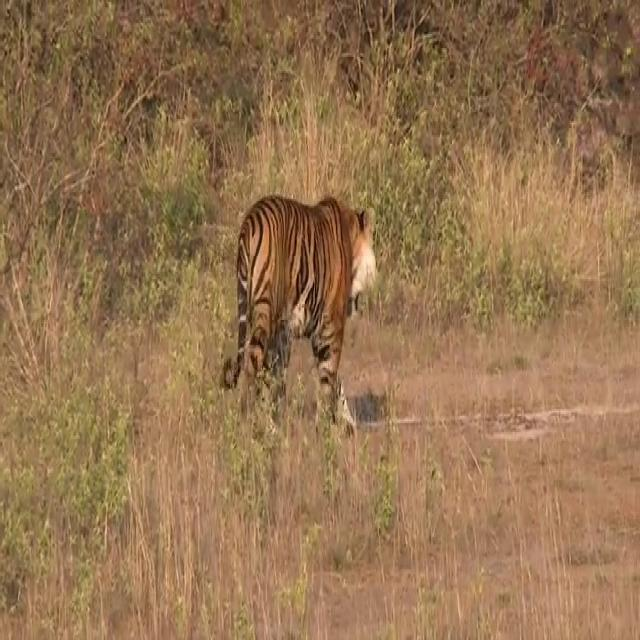tiger: (222, 194, 376, 423)
